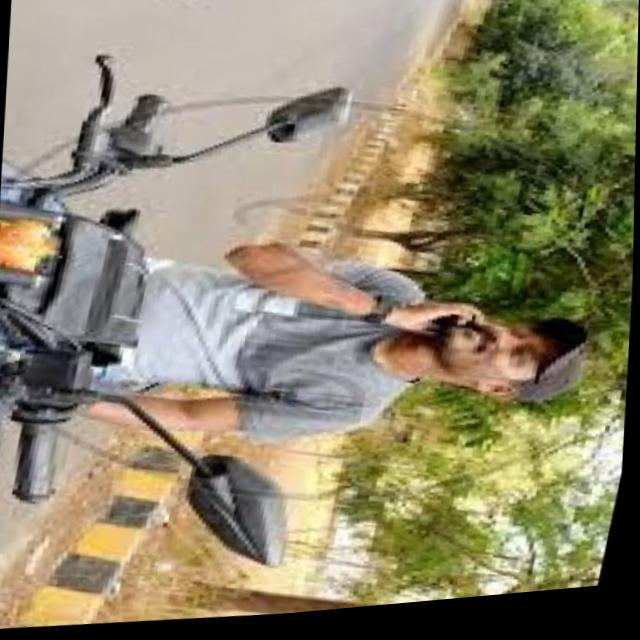USING_MOBILE: (214, 216, 498, 357)
